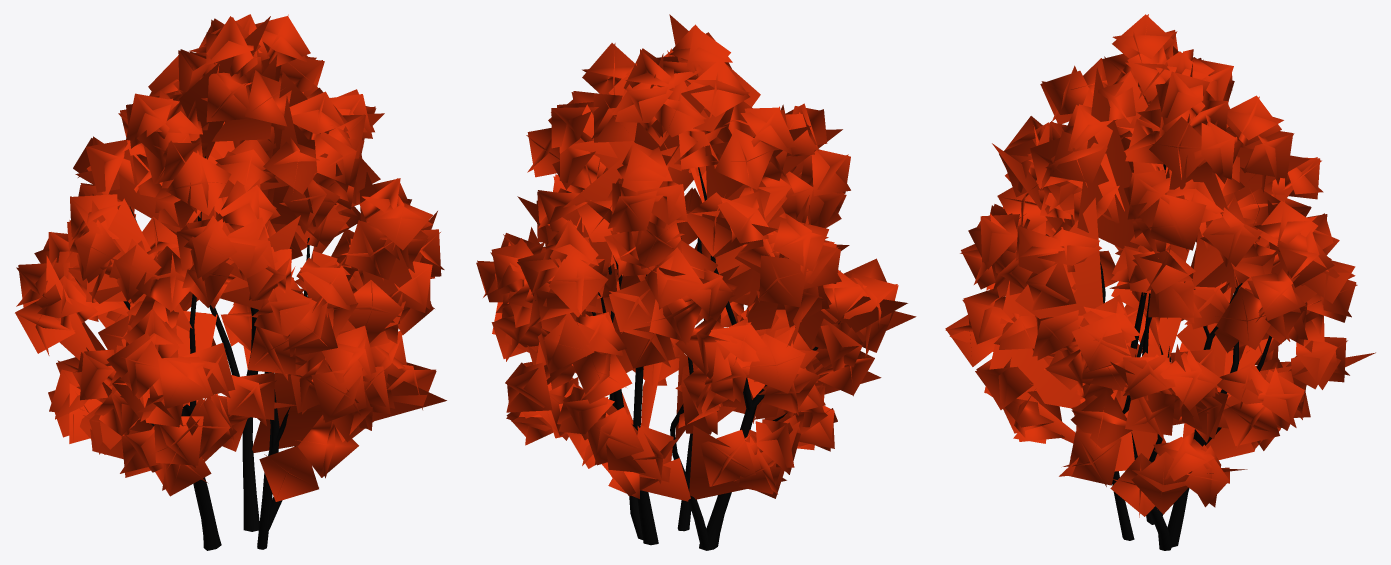
File: G_BeechTree_001_S1.fbx
The picture shows the model from 3 angles, left to right: view 1: azimuth 30°, elevation 25°; view 2: azimuth 150°, elevation 25°; view 3: azimuth 270°, elevation 25°; orthographic projection. The views are drawn at different scales.
Visible parts, largest first — view 1: G_BeechTree_001_S1_P01_LOD0; view 2: G_BeechTree_001_S1_P01_LOD0; view 3: G_BeechTree_001_S1_P01_LOD0.
Boxes of the visible parts, x1=… form: G_BeechTree_001_S1_P01_LOD0: x1=15, y1=14, x2=446, y2=550; G_BeechTree_001_S1_P01_LOD0: x1=476, y1=14, x2=916, y2=550; G_BeechTree_001_S1_P01_LOD0: x1=945, y1=14, x2=1375, y2=550.
Size of the model in its own units: 387 by 538 by 409.
